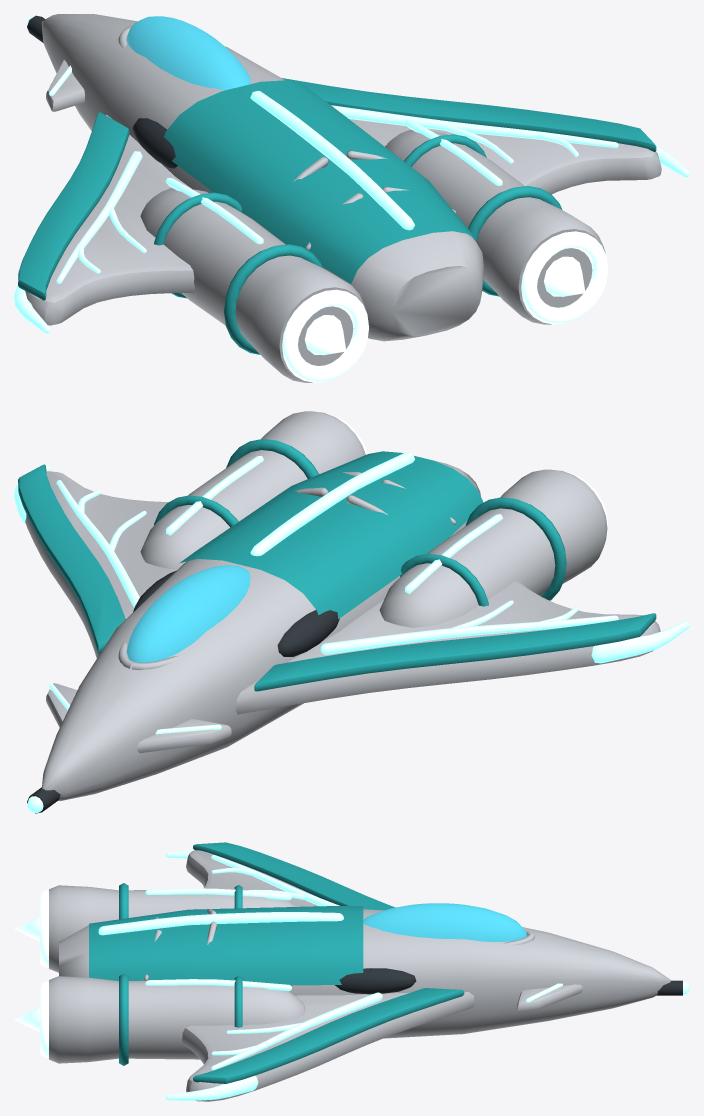
Rendered from ship.glb.
3 views of the same model, one above another, from view 1: azimuth 30°, elevation 25°; view 2: azimuth 150°, elevation 25°; view 3: azimuth 270°, elevation 25° (orthographic). The views are drawn at different scales.
Parts seen in each view (by area): view 1: ship; view 2: ship; view 3: ship.
Part boxes in pixels (x1,y1,x2,y2): ship: (14,14,689,382); ship: (14,411,689,813); ship: (14,842,689,1101).
Bounding box in the file's own units: 1.16 × 0.2711 × 1.35.
